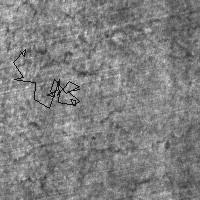crazing: (13, 108, 136, 190), (18, 20, 154, 77), (13, 49, 79, 108)
